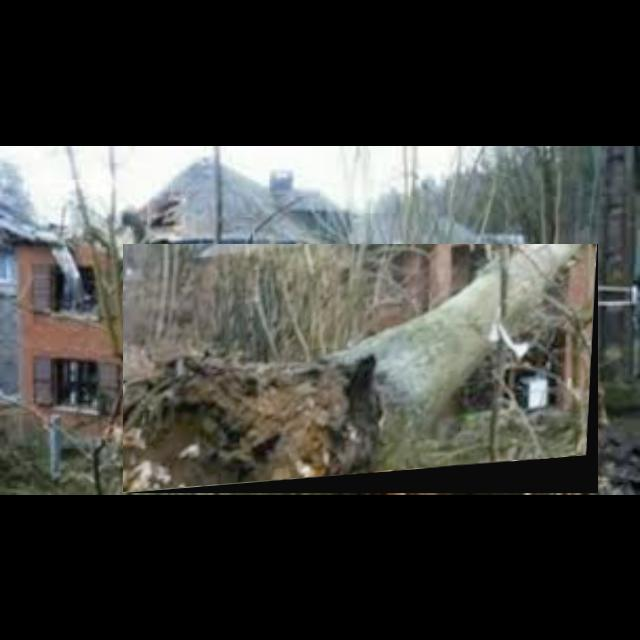Fallen Tree: (123, 244, 599, 494)
